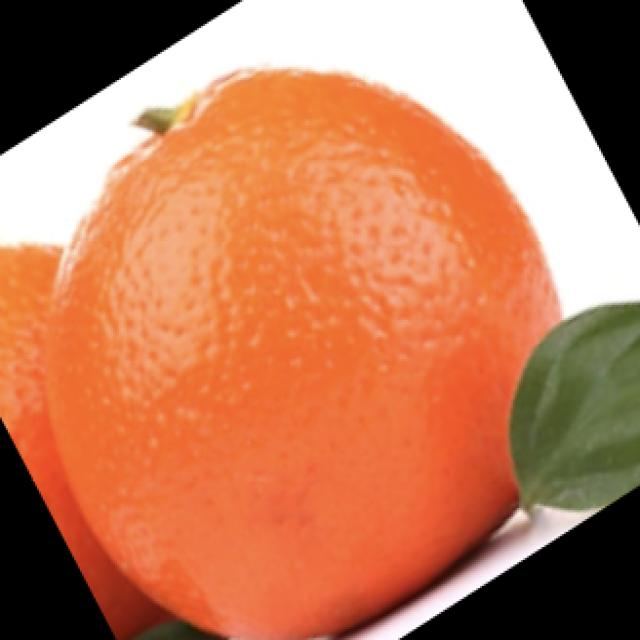matang: (50, 68, 558, 638), (0, 245, 185, 638)
